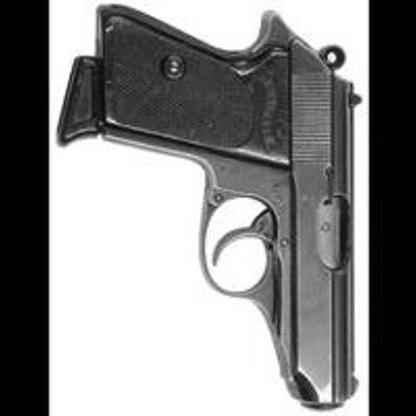weapon: (57, 6, 361, 414)
